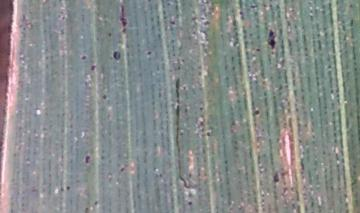tarspot: (116, 1, 130, 35), (265, 26, 279, 57), (110, 46, 123, 64), (271, 168, 282, 187), (82, 151, 93, 168), (200, 15, 211, 28), (253, 106, 262, 121), (169, 13, 177, 29), (88, 61, 98, 73), (100, 90, 109, 103), (79, 52, 90, 62), (144, 48, 154, 59), (92, 197, 101, 208), (237, 8, 246, 19), (248, 1, 258, 10), (253, 46, 263, 55), (118, 164, 127, 173), (204, 129, 213, 138), (197, 117, 205, 127), (106, 30, 114, 39), (65, 183, 72, 193), (187, 198, 194, 208), (198, 104, 205, 114), (59, 185, 65, 195), (83, 205, 90, 213)
